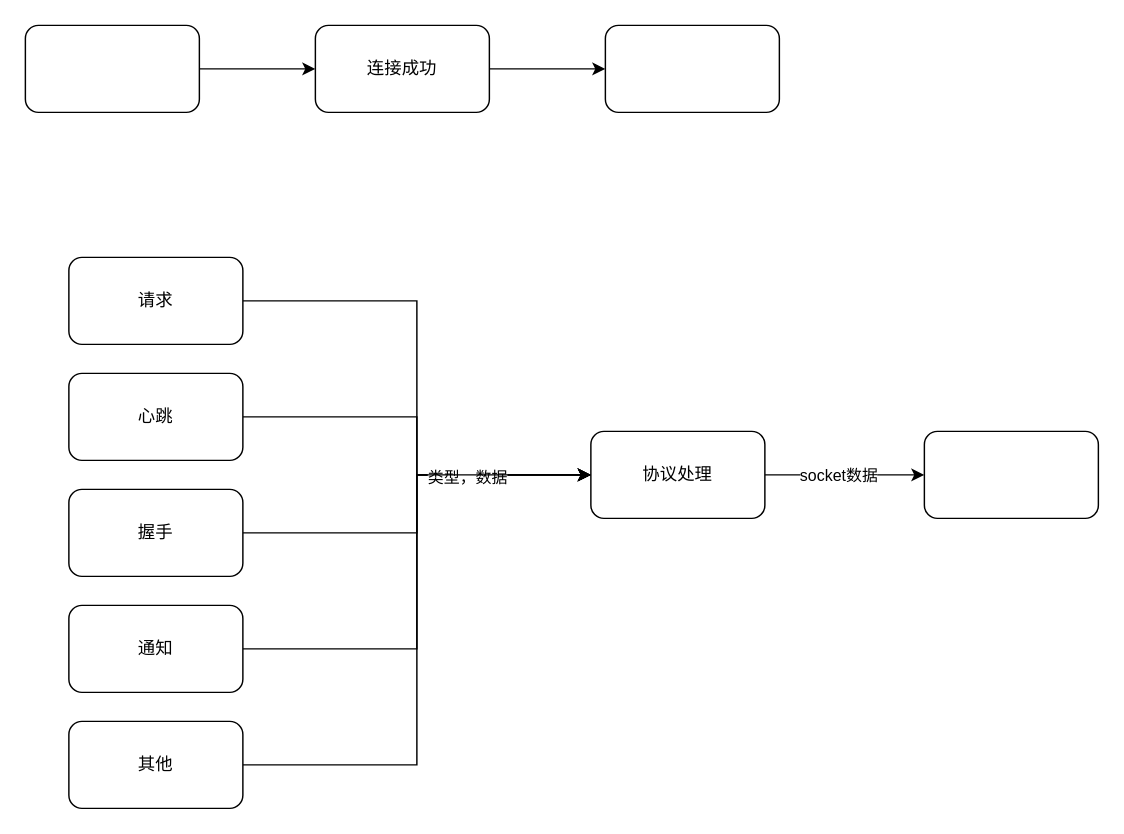
The diagram is 1124 pixels wide and 834 high, and some of its shapes have lost their labels. The centre of each missing label's shape, as x and y in pixels:
发送握手包: [691,68]
数据发送: [1010,474]
连接socket: [111,68]
